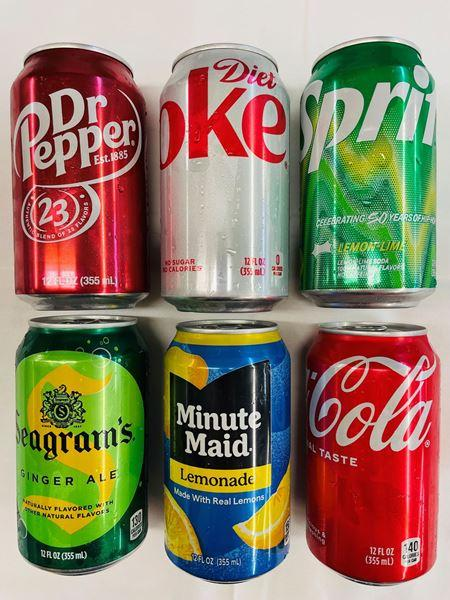can: (301, 37, 436, 307), (11, 45, 148, 310), (305, 324, 440, 584), (160, 46, 289, 311), (16, 317, 147, 574), (163, 320, 290, 582)
